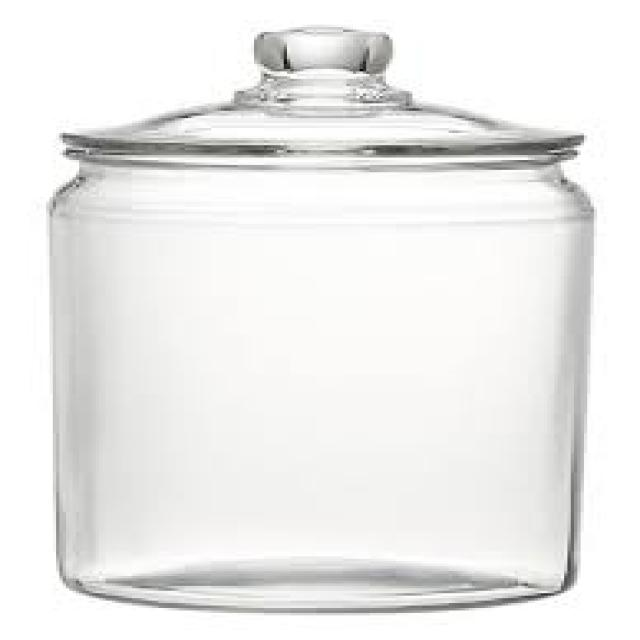glass: (43, 22, 594, 611)
